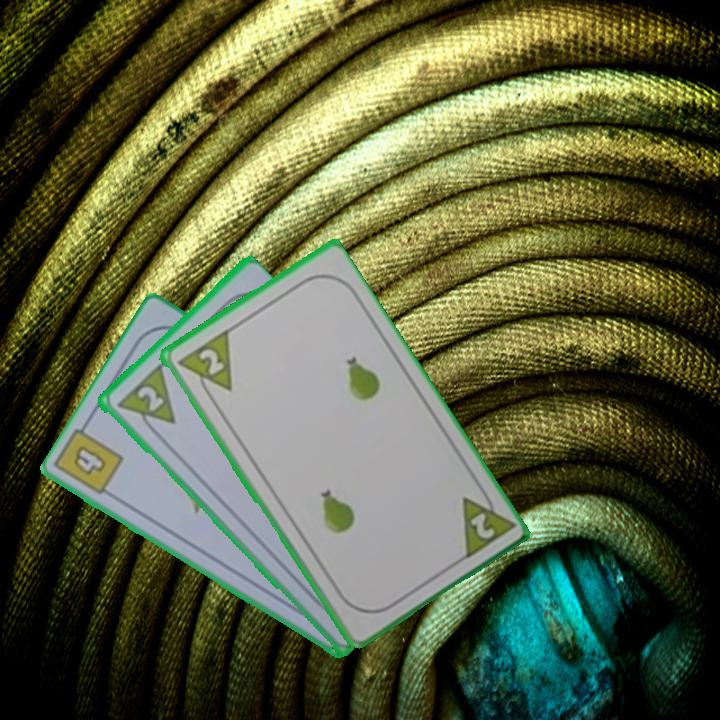2p: (173, 326, 235, 404), (132, 382, 166, 415), (465, 508, 498, 542)
4b: (69, 441, 109, 479)
